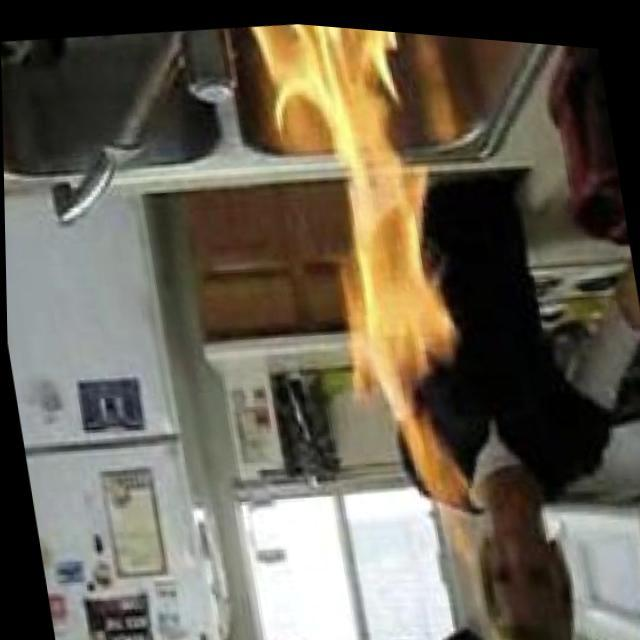fire: (258, 17, 490, 515)
